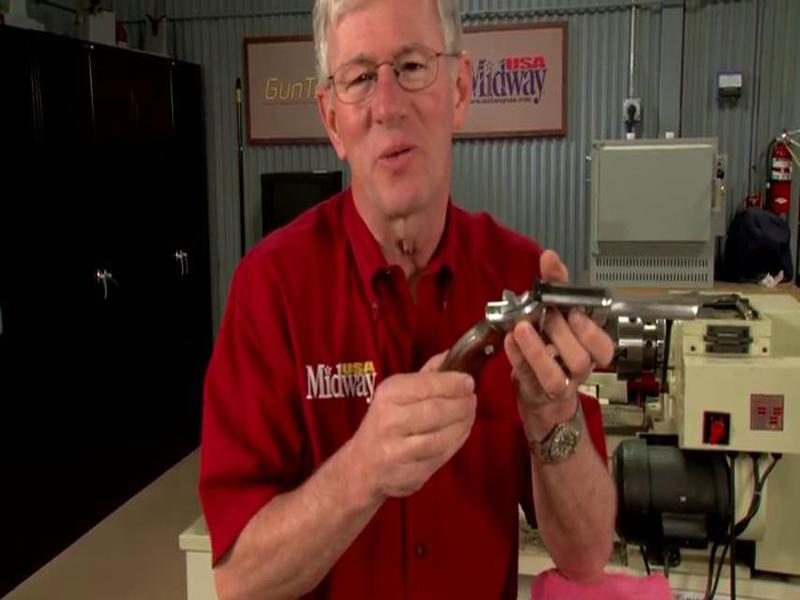Revolver: (417, 268, 716, 437)
